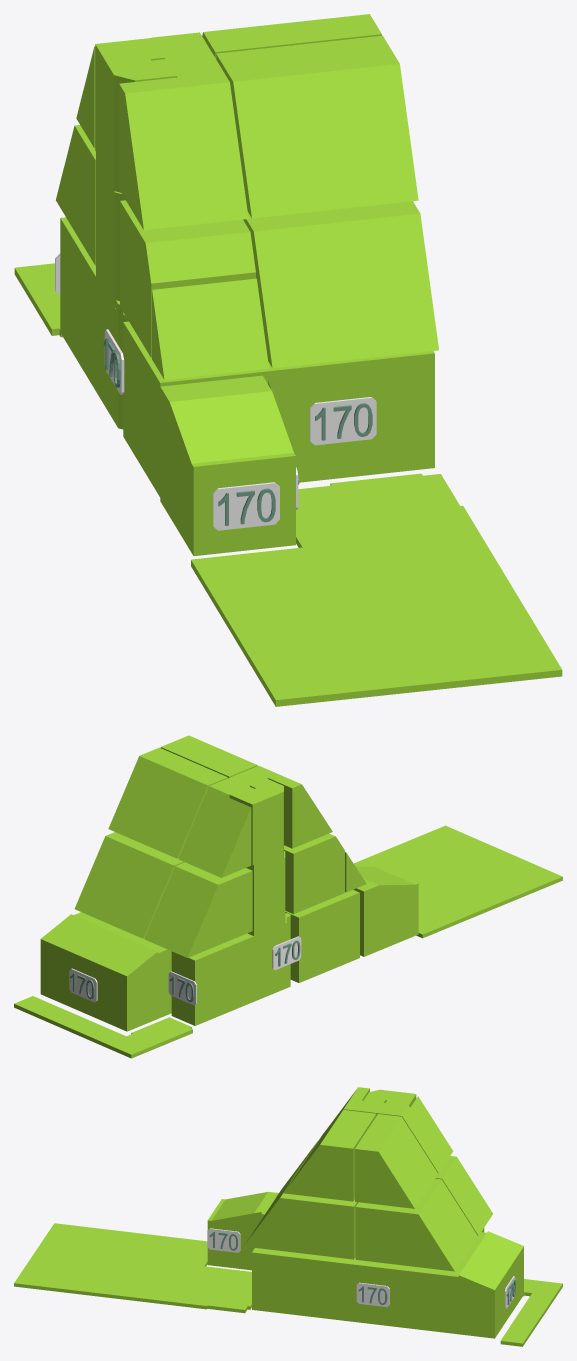
The picture shows the model from 3 angles, top to bottom: view 1: azimuth 30°, elevation 25°; view 2: azimuth 150°, elevation 25°; view 3: azimuth 270°, elevation 25°; orthographic projection. The views are drawn at different scales.
Parts seen in each view (by area): view 1: g_19, g_10, g_7, g_0, g_15, g_5, g_16, g_6, g_14, g_2, g_11, g_9 (+5 smaller); view 2: g_1, g_19, g_15, g_11, g_9, g_8, g_2, g_0, g_5, g_6, g_14, g_4 (+8 smaller); view 3: g_19, g_1, g_8, g_11, g_7, g_0, g_10, g_5, g_15, g_9, g_18, g_14 (+3 smaller).
Boxes of the visible parts, x1,y1,x2,y2 form: g_19: [191, 473, 562, 706]; g_10: [216, 35, 418, 218]; g_7: [243, 201, 438, 368]; g_0: [123, 321, 434, 497]; g_15: [76, 32, 248, 230]; g_5: [160, 375, 295, 556]; g_16: [152, 278, 268, 379]; g_6: [120, 200, 255, 357]; g_14: [95, 38, 176, 182]; g_2: [60, 217, 95, 389]; g_11: [202, 14, 381, 58]; g_9: [56, 125, 95, 265]; g_1: [40, 912, 171, 1031]; g_19: [353, 825, 562, 938]; g_15: [178, 765, 332, 877]; g_11: [108, 747, 227, 858]; g_9: [144, 862, 252, 957]; g_8: [74, 832, 184, 938]; g_2: [171, 934, 252, 1025]; g_0: [285, 890, 359, 982]; g_5: [353, 865, 418, 956]; g_6: [284, 833, 344, 914]; g_14: [229, 778, 283, 865]; g_4: [245, 913, 290, 1002]; g_19: [14, 1223, 251, 1313]; g_1: [324, 1231, 523, 1338]; g_8: [355, 1178, 477, 1271]; g_11: [355, 1114, 437, 1208]; g_7: [244, 1163, 358, 1259]; g_0: [252, 1248, 327, 1318]; g_10: [284, 1110, 376, 1201]; g_5: [207, 1191, 278, 1270]; g_15: [308, 1087, 453, 1173]; g_9: [435, 1156, 492, 1235]; g_18: [500, 1293, 554, 1346]; g_14: [363, 1089, 416, 1107].
Bounding box in the file's own units: 11.59 × 7.94 × 22.34.
